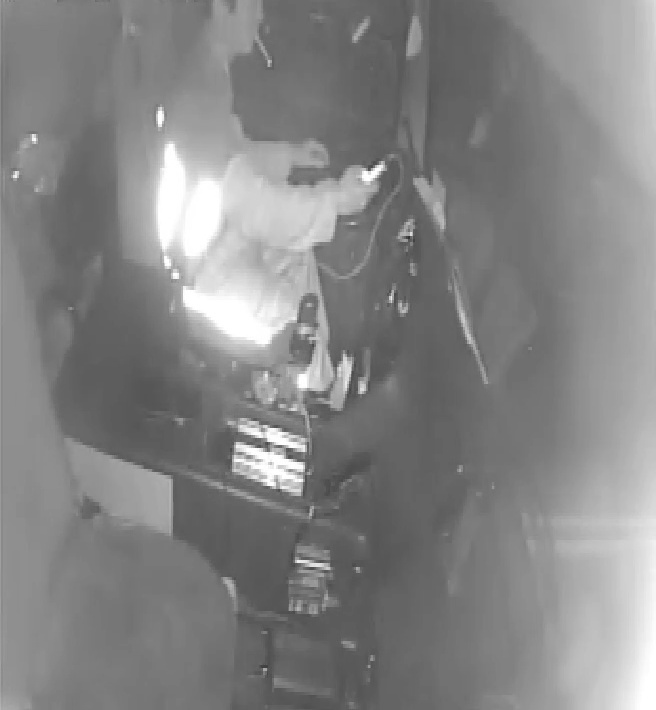cellphone: (347, 156, 390, 187)
